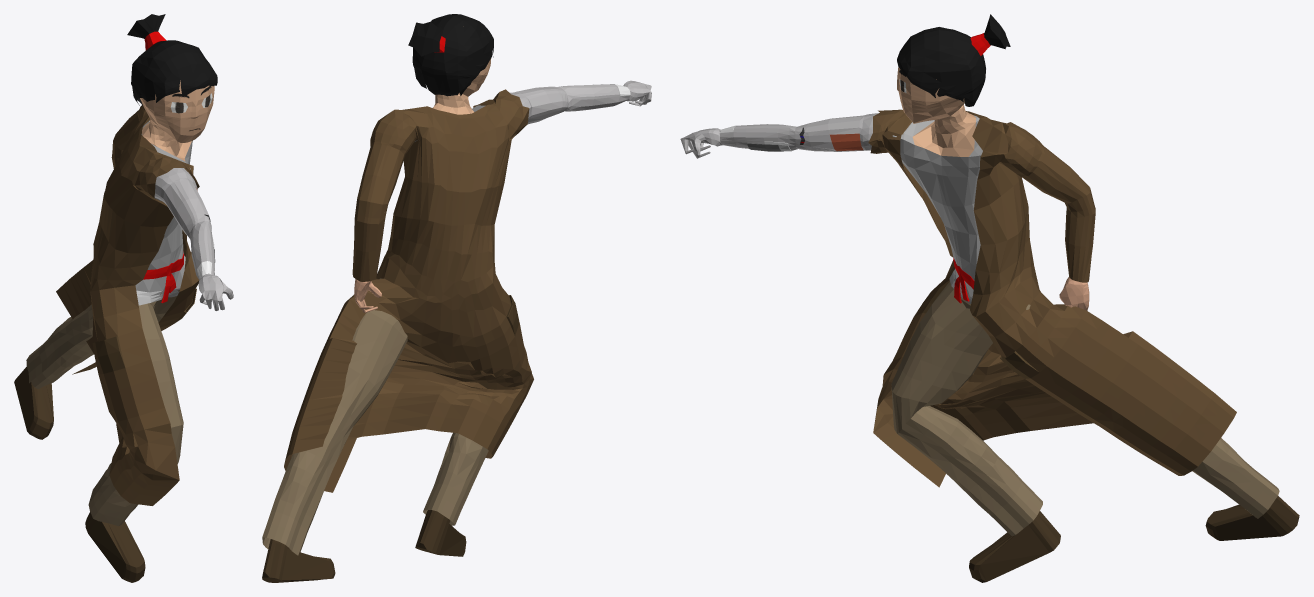
Rendered from OneAnimationTest_000008.obj.
The picture shows the model from 3 angles, left to right: view 1: azimuth 30°, elevation 25°; view 2: azimuth 150°, elevation 25°; view 3: azimuth 270°, elevation 25°; orthographic projection. The views are drawn at different scales.
Parts seen in each view (by area): view 1: Jacket_Cube, Body_Cube.003, Hair_Cube.004; view 2: Jacket_Cube, Body_Cube.003, Hair_Cube.004; view 3: Jacket_Cube, Body_Cube.003, Hair_Cube.004.
Boxes of the visible parts, <box> form: Jacket_Cube: <box>56,105,199,505</box>; Body_Cube.003: <box>14,80,233,582</box>; Hair_Cube.004: <box>127,14,217,105</box>; Jacket_Cube: <box>284,89,533,492</box>; Body_Cube.003: <box>262,58,651,582</box>; Hair_Cube.004: <box>408,14,493,96</box>; Jacket_Cube: <box>868,109,1236,487</box>; Body_Cube.003: <box>680,67,1299,582</box>; Hair_Cube.004: <box>897,14,1010,106</box>.
Size of the model in its own units: 1.05 by 3.65 by 3.56.
